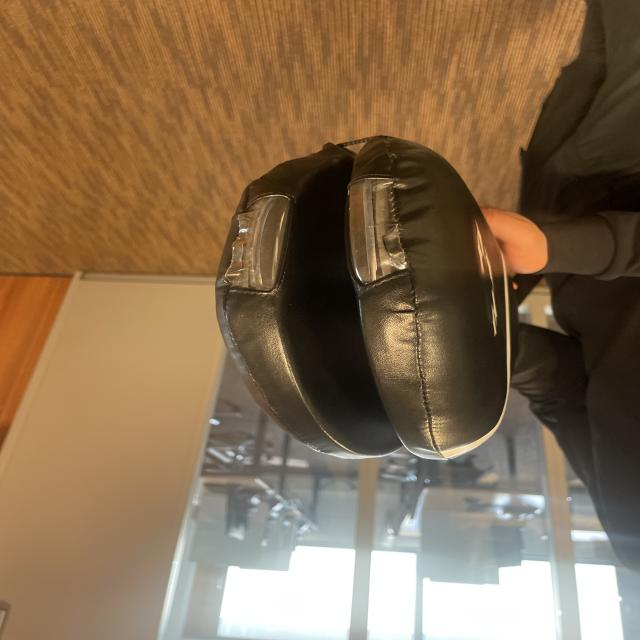paddle: (233, 150, 511, 457)
